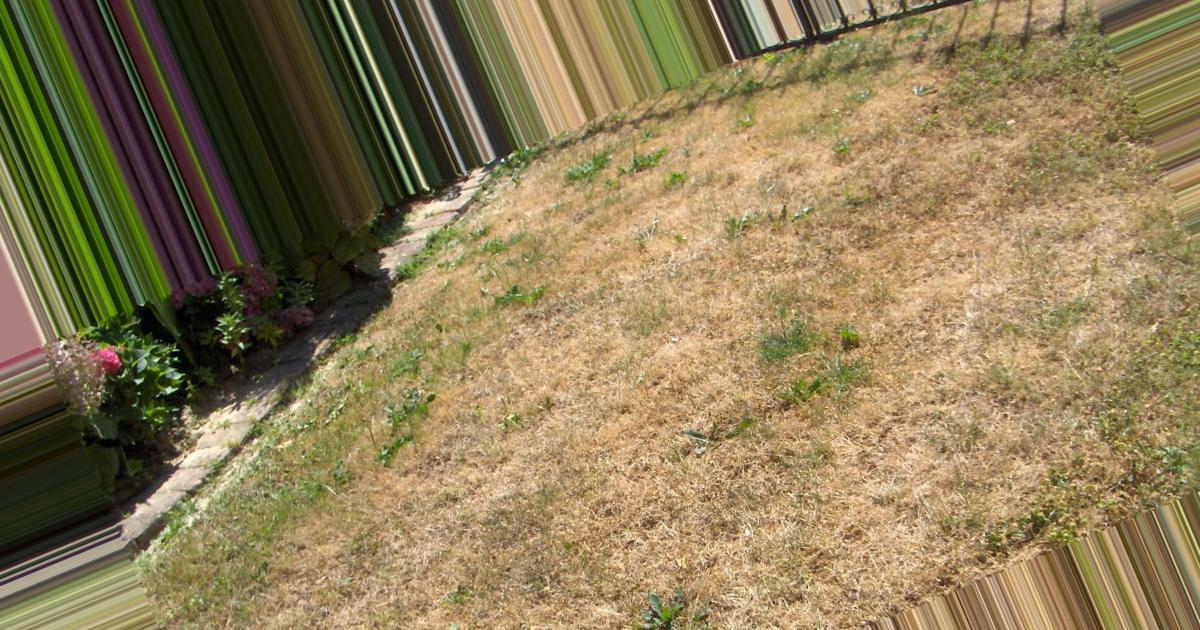patch: (539, 386, 878, 535), (902, 284, 1101, 446), (802, 131, 1051, 245), (494, 276, 787, 345), (341, 472, 507, 585), (514, 168, 714, 230), (638, 540, 791, 609)
